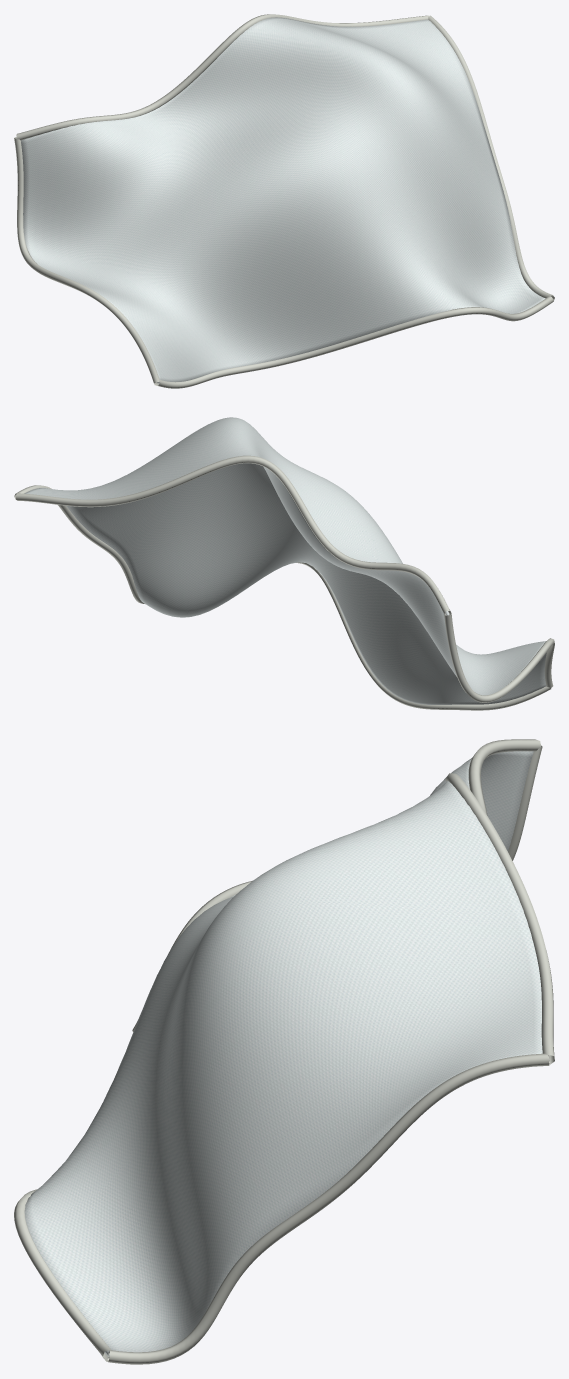
The model's file is cloth.glb.
3 views of the same model, one above another, from view 1: azimuth 30°, elevation 25°; view 2: azimuth 150°, elevation 25°; view 3: azimuth 270°, elevation 25° (orthographic). The views are drawn at different scales.
Visible parts, largest first — view 1: White waffle microfibre, Bound pearl microfibre edge; view 2: White waffle microfibre, Bound pearl microfibre edge; view 3: White waffle microfibre, Bound pearl microfibre edge.
Boxes of the visible parts, x1,y1,x2,y2 form: White waffle microfibre: [20, 17, 545, 383]; Bound pearl microfibre edge: [14, 14, 554, 388]; White waffle microfibre: [24, 417, 546, 704]; Bound pearl microfibre edge: [14, 455, 554, 710]; White waffle microfibre: [24, 751, 549, 1358]; Bound pearl microfibre edge: [14, 739, 554, 1364].
Size of the model in its own units: 1.78 by 1.07 by 1.13.
3 materials, 1 textured.
